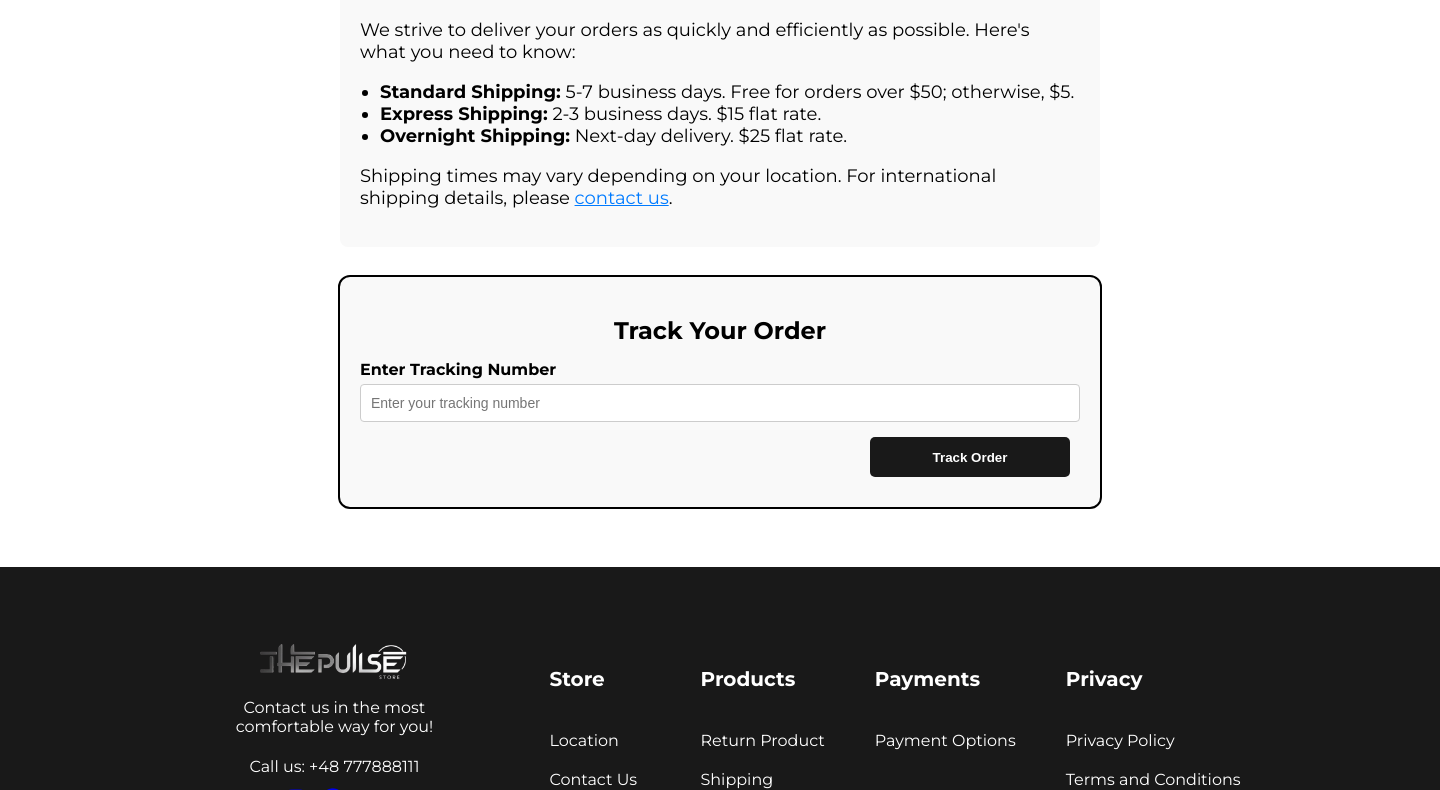
Test: ShippingPage Component › displays an error when tracking number is too short
The width and height of the screenshot is (1440, 790).
(page scrolled)
Type "123" into the field labelled "Enter Tracking Number". click: point(720, 403)
box: x1=360 y1=384 x2=1080 y2=422
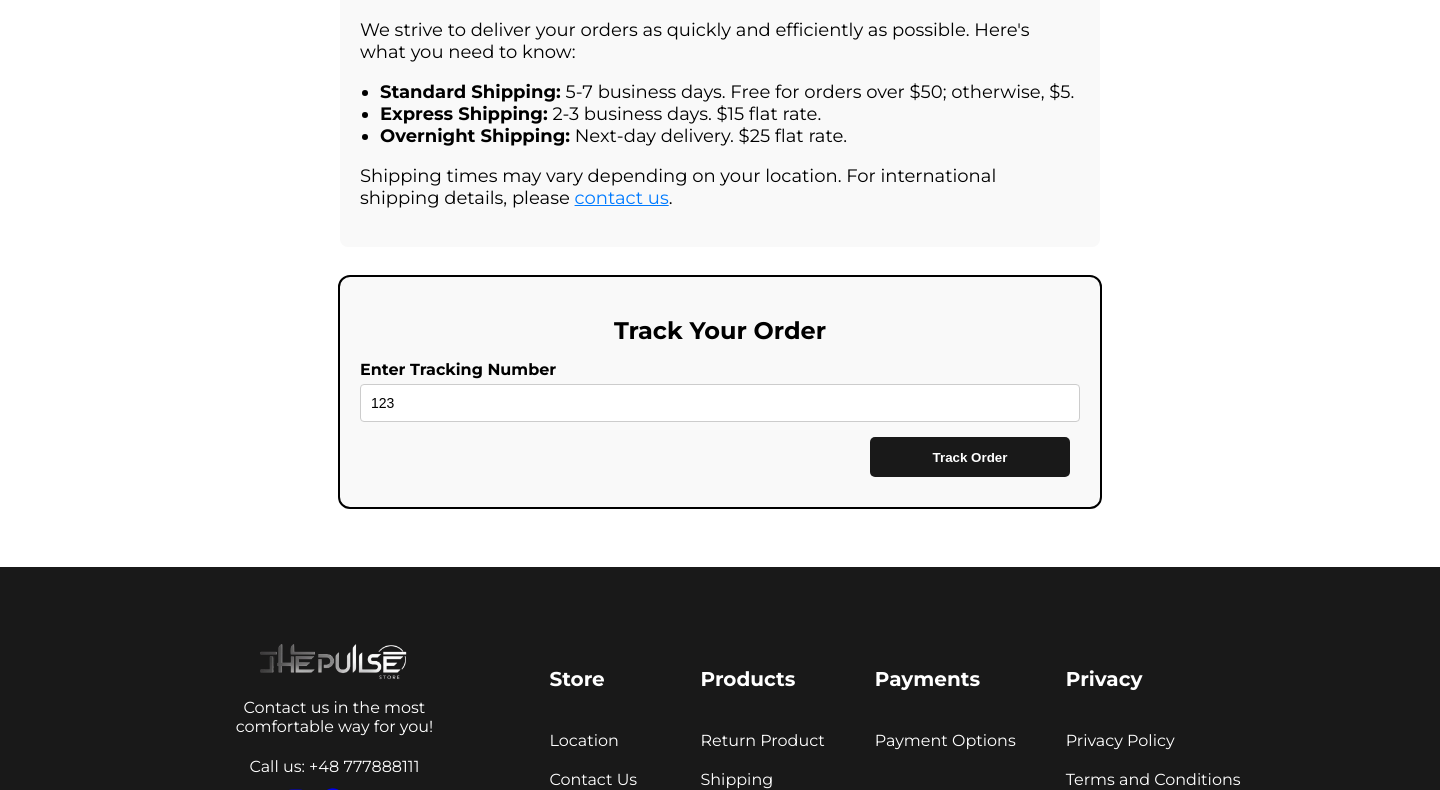
Click the button "Track Order". click: point(970, 457)
box: x1=870 y1=437 x2=1070 y2=477
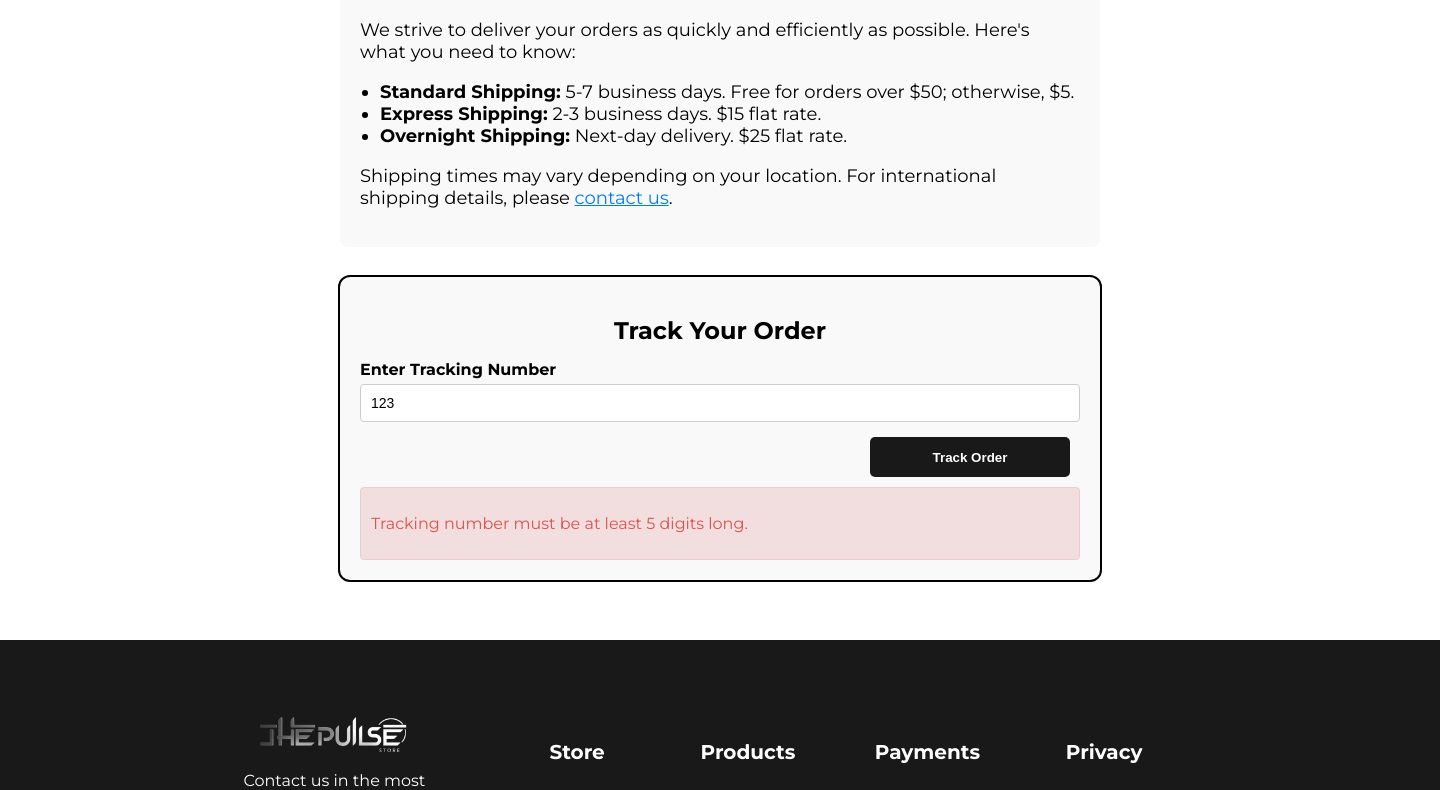
Expected: the text "Tracking number must be at least 5 digits long." is shown, x1=371 y1=514 x2=748 y2=533
